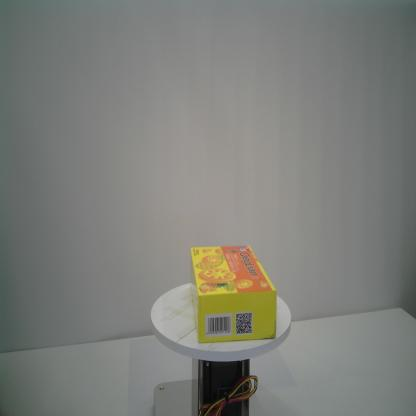Dessert: (190, 245, 277, 344)
